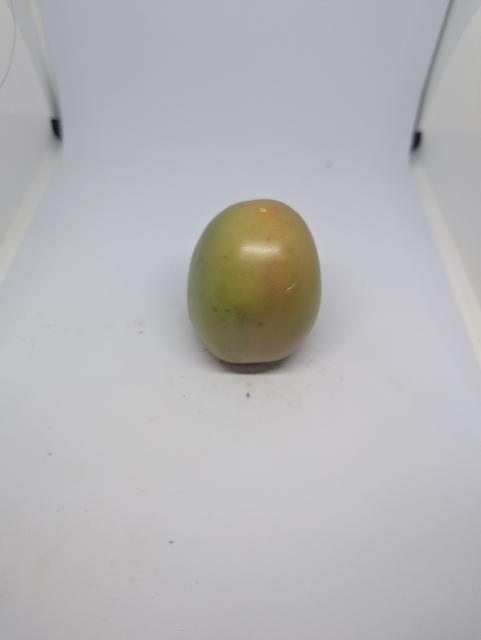breaker: (188, 199, 322, 364)
